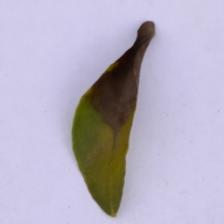black spot: (72, 34, 164, 113)
